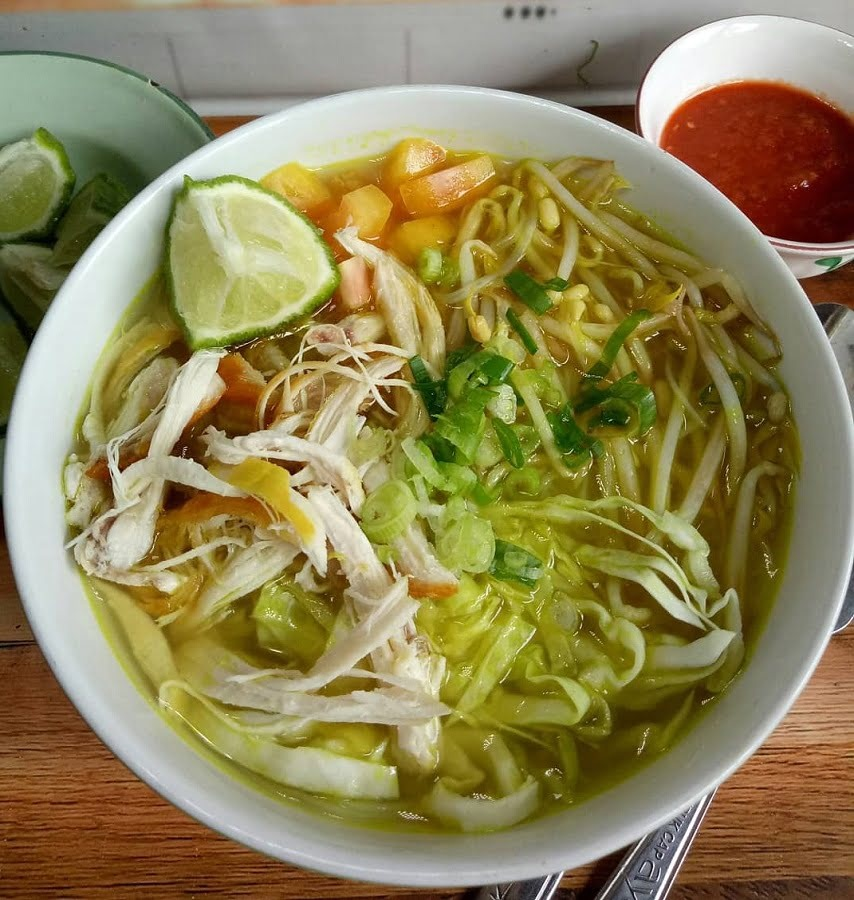soto: (99, 169, 721, 789)
